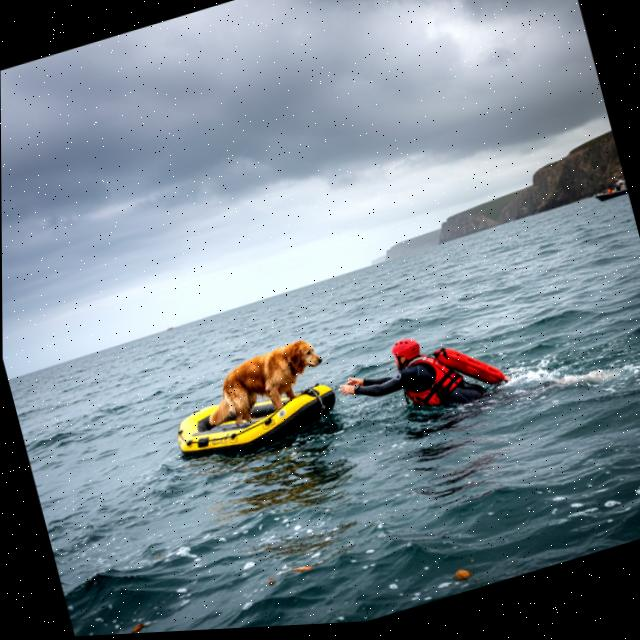dog: (195, 323, 337, 430)
rescuer: (322, 304, 506, 451)
